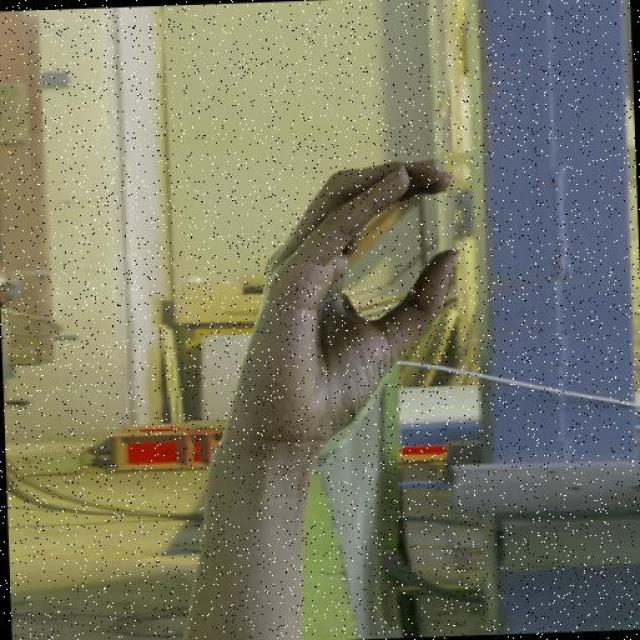C: (208, 156, 464, 439)
